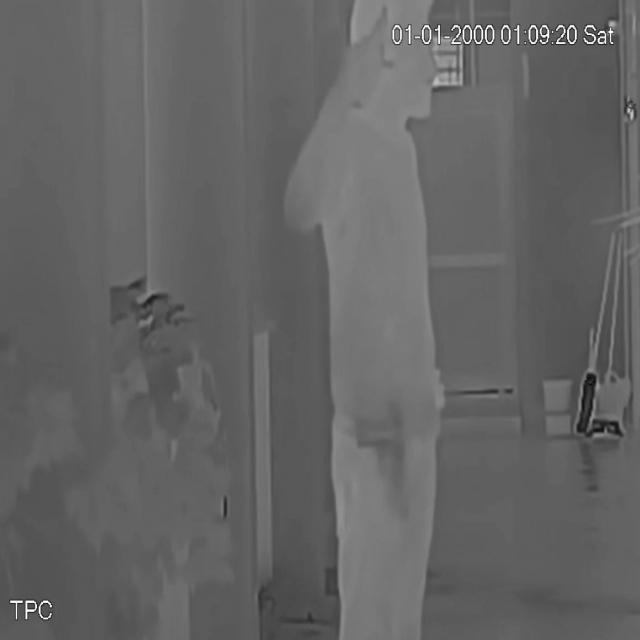Weapon: (350, 398, 430, 536)
